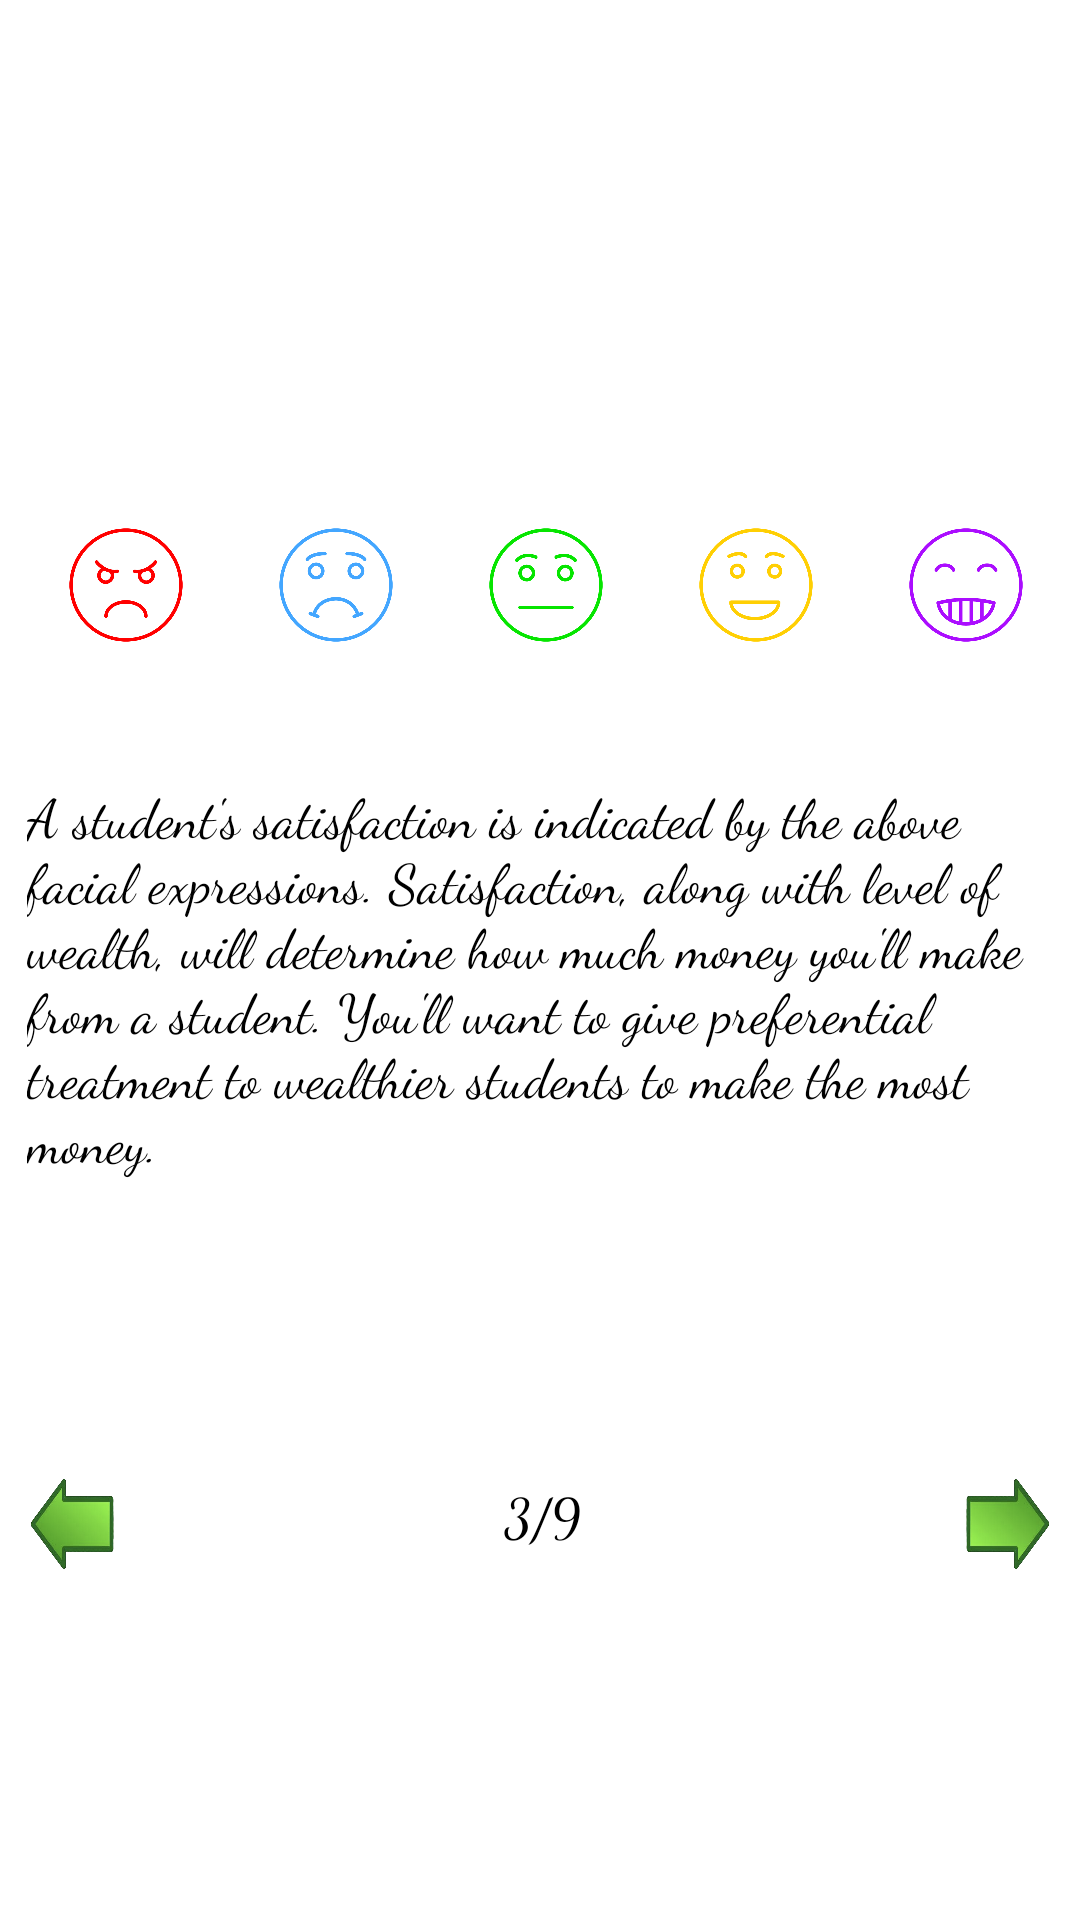

Named icons in this screenshot (1080×1920) and their bounding boxes, (x1, y1, x2, y2):
happyface: (699, 528, 813, 642)
pissedface: (69, 528, 183, 642)
stokedface: (909, 528, 1023, 642)
straightface: (489, 528, 603, 642)
unhappyface: (279, 528, 393, 642)
